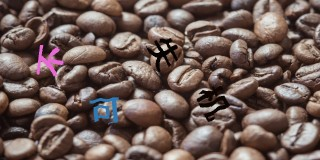不: (34, 43, 64, 78)
可: (86, 95, 121, 124)
失: (147, 37, 178, 73)
机: (197, 85, 230, 124)
